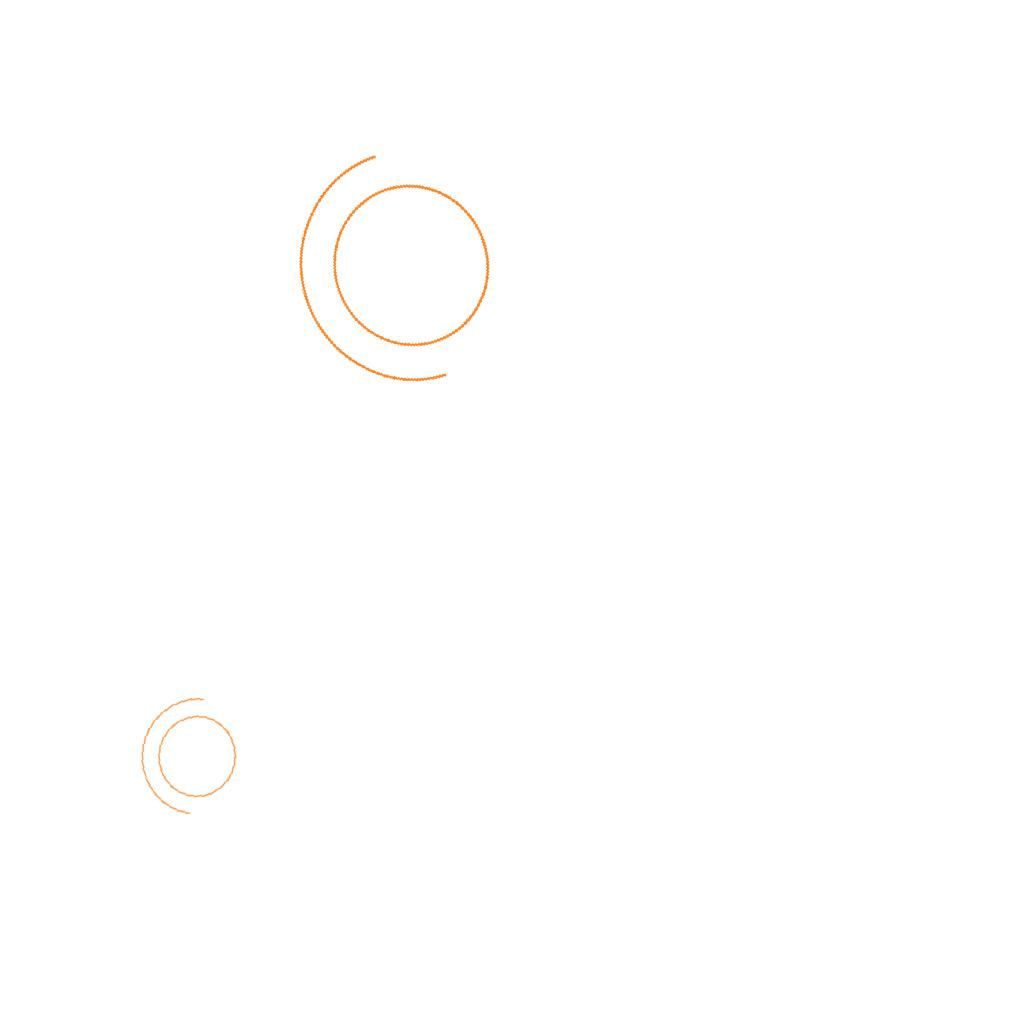Scheinwerfer_fuer_Alarmbeleuchtung: (256, 114, 552, 435), (128, 686, 256, 832)
